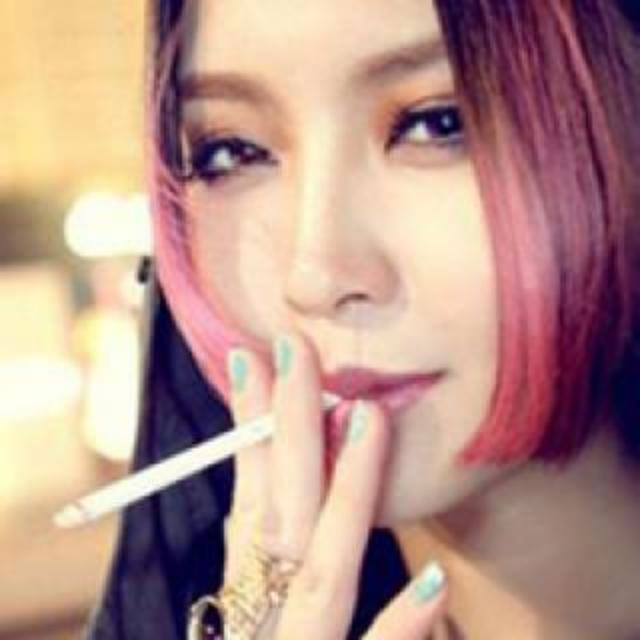SafeDriving: (353, 53, 503, 173), (168, 94, 306, 198)
Smoking: (46, 396, 280, 534)
